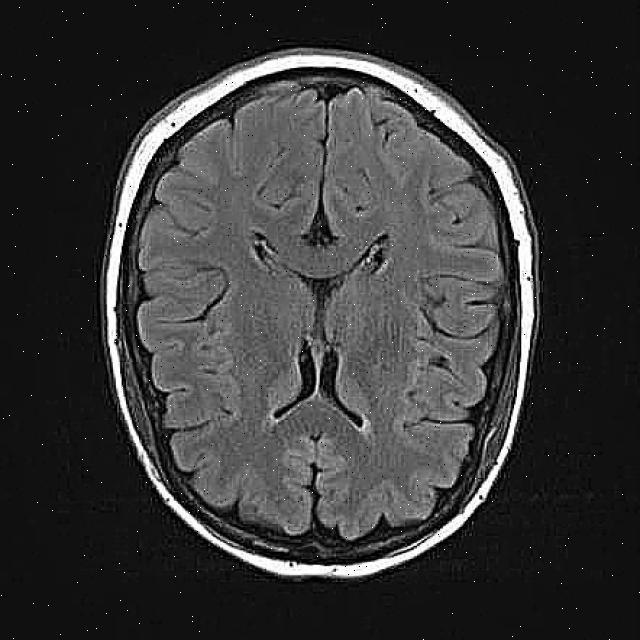No_Tumor: (101, 49, 537, 578)
